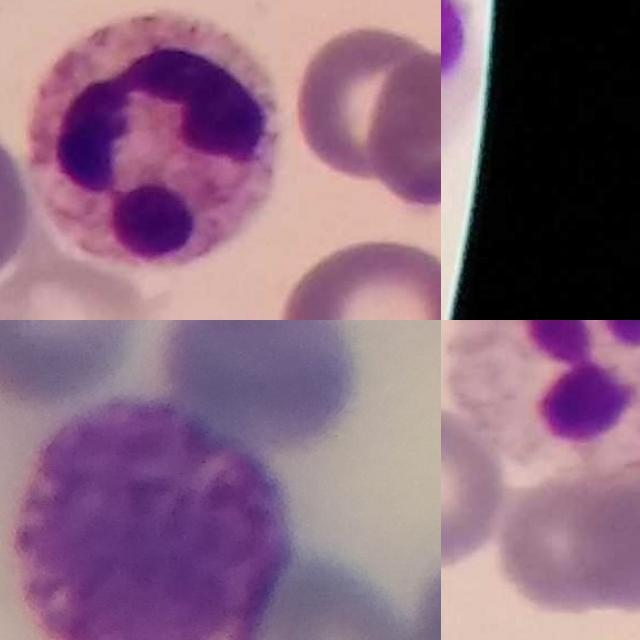Basophil: (18, 398, 293, 640)
Neutrophil: (27, 8, 280, 272), (445, 320, 640, 484)
